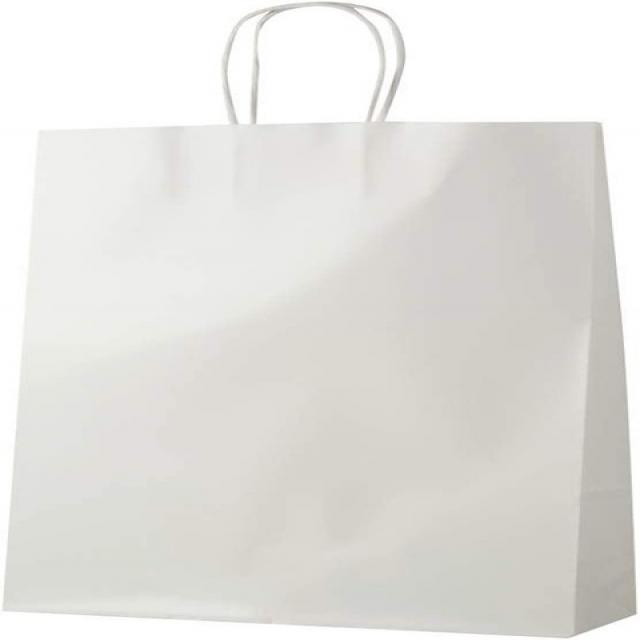paper bag: (4, 4, 638, 639)
